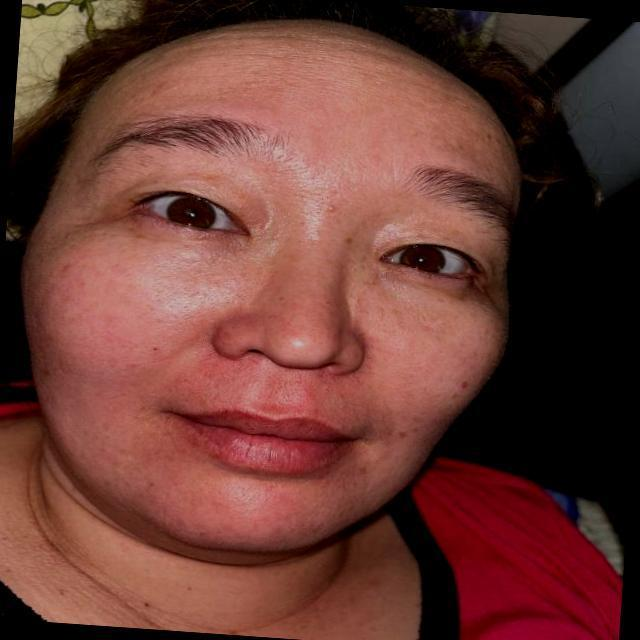acne: (323, 201, 342, 216)
